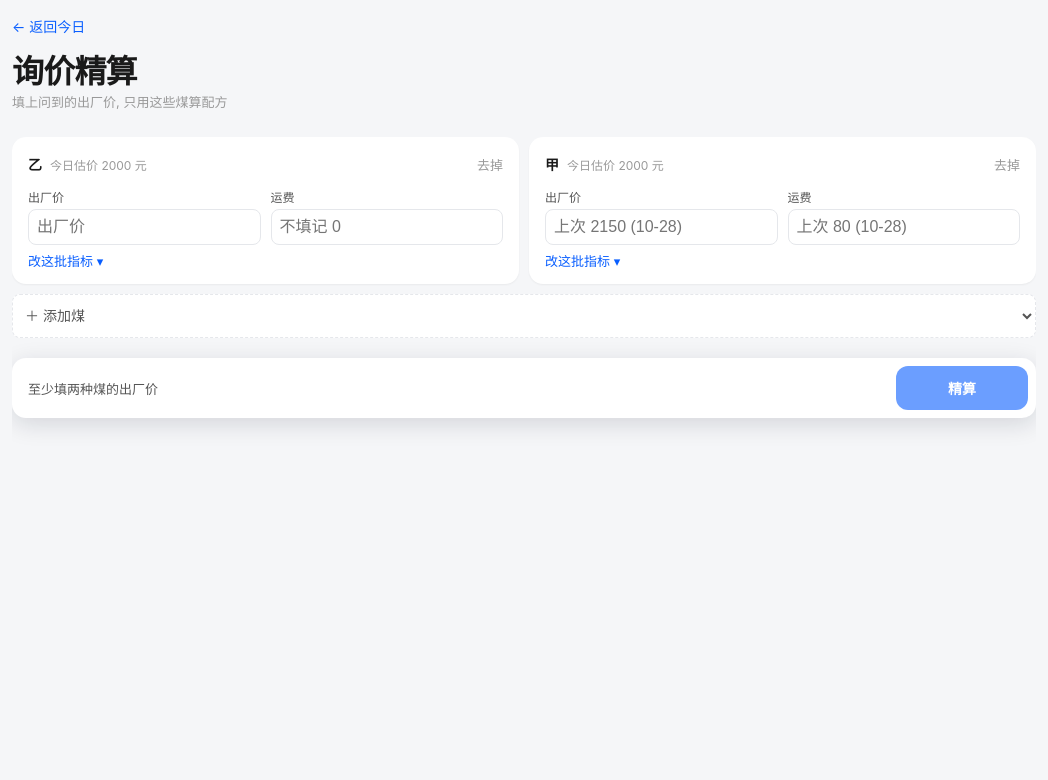
Test: 求解等待和不可行都照常存档
expect the dropdown named "添加煤" is shown: met, box [12,294,1036,338]
Type "2150" into the field named "甲 出厂价". click: [661, 227]
box: [545,209,778,245]
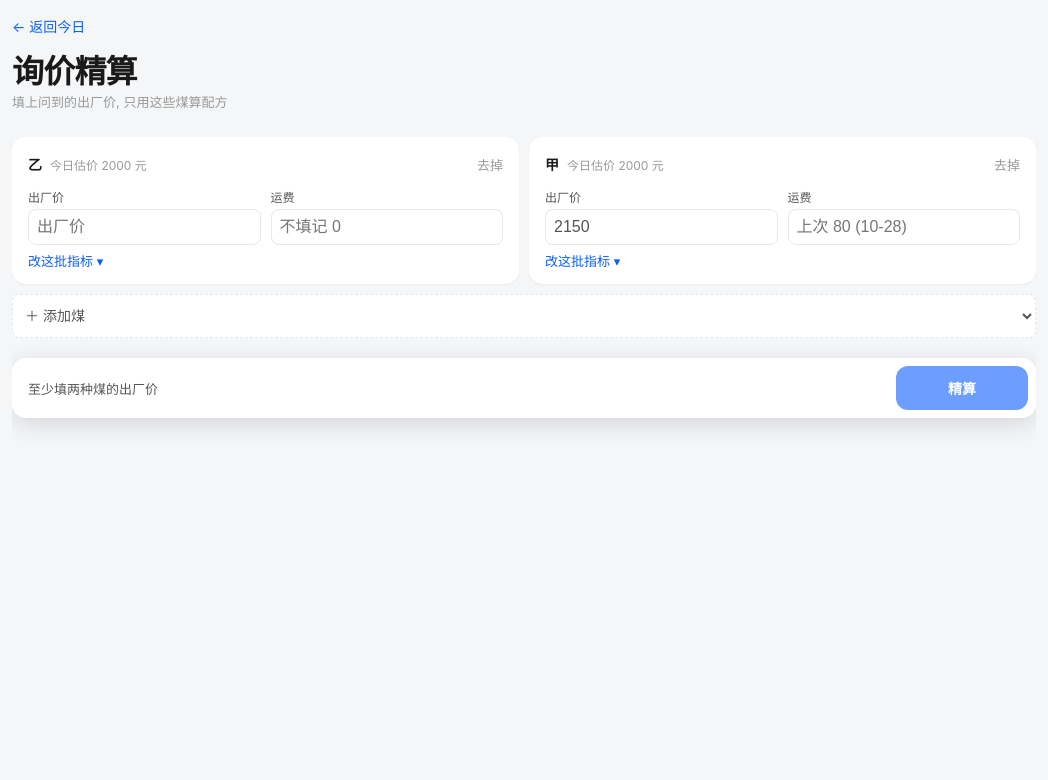
Type "1980" into the field named "乙 出厂价". click: [144, 227]
box: [28,209,260,245]
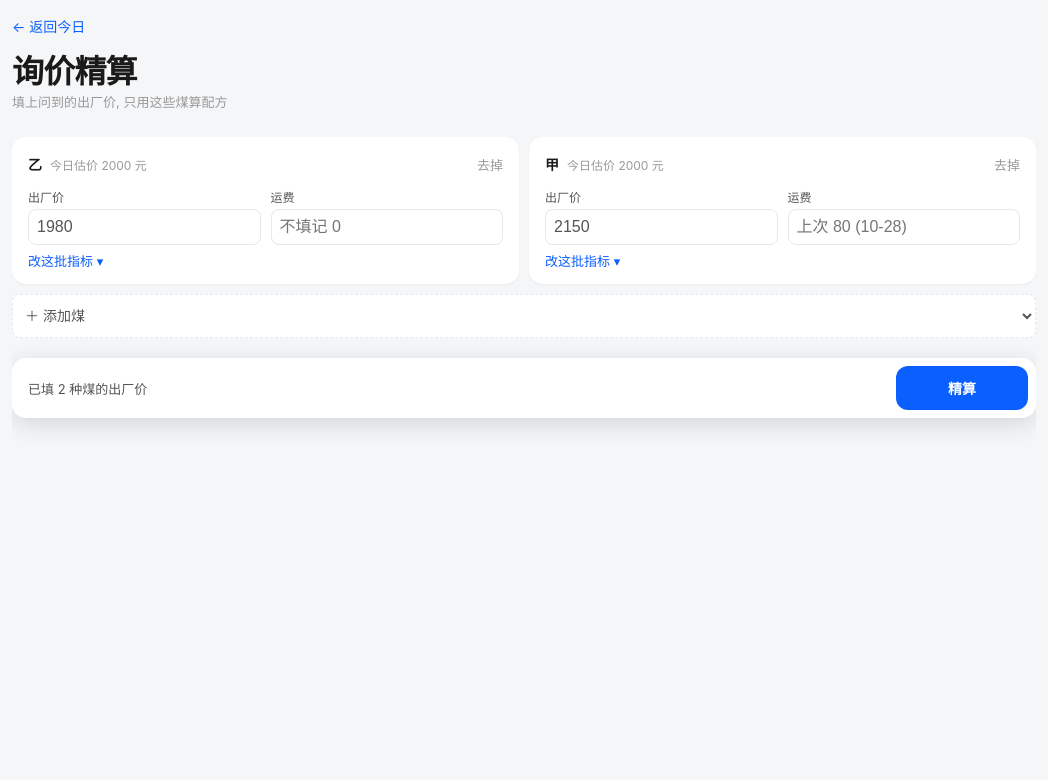
Click the button "精算". click: [962, 388]
box: [896,366,1028,410]
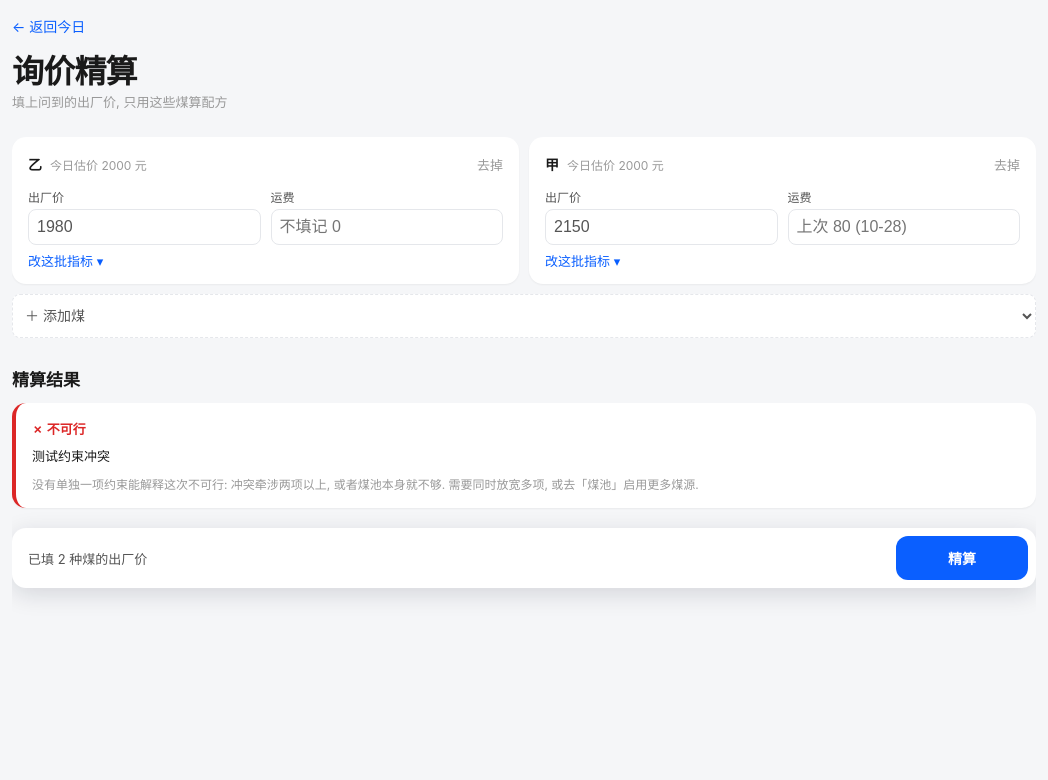
expect the text "测试约束冲突" is shown: met, box [32,448,110,464]
